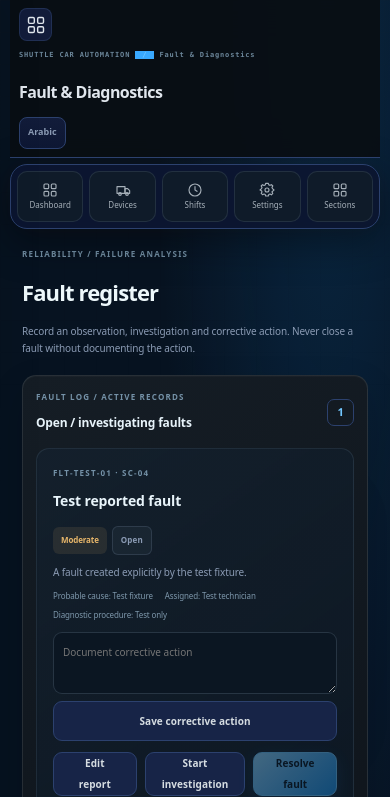
Test case: Shuttle Car Automation V8 › requires and records corrective action before resolving a fault
Earlier steps of the test are not shown.
Type "Replaced damaged sensor and verified detection in a controlled test." into the text box with placeholder "Document corrective action" at (195, 663), box [53,632,337,694]
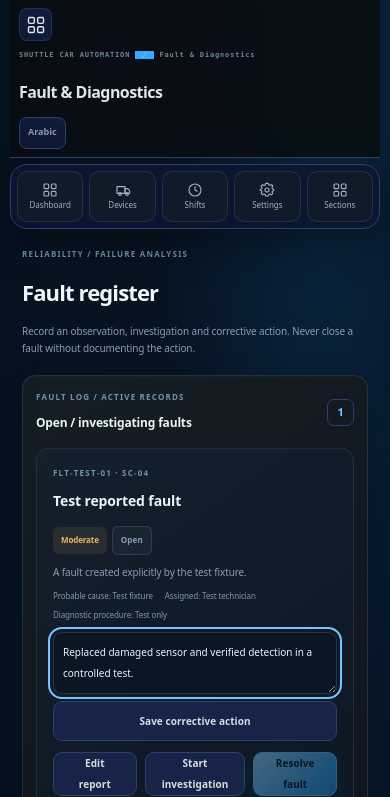
Click the button "Save corrective action" at (195, 721), box [53,701,337,741]
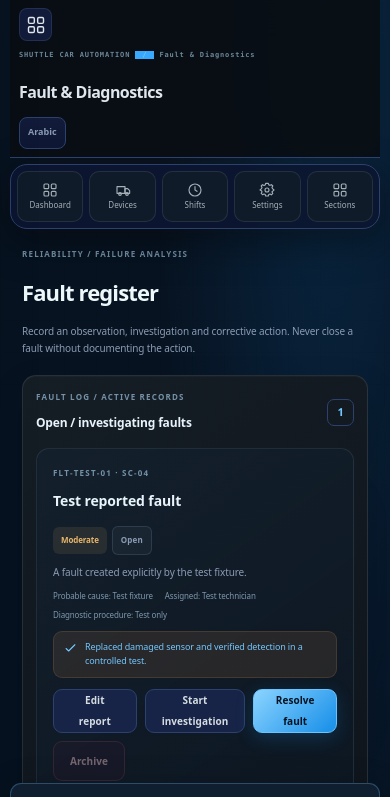
Result: the button "Resolve fault" is enabled
Result: the text "Replaced damaged sensor and verified detection in a controlled test." is shown at [53,631,337,678]
Click the button "Resolve fault" at (295, 711), box [253,689,337,733]
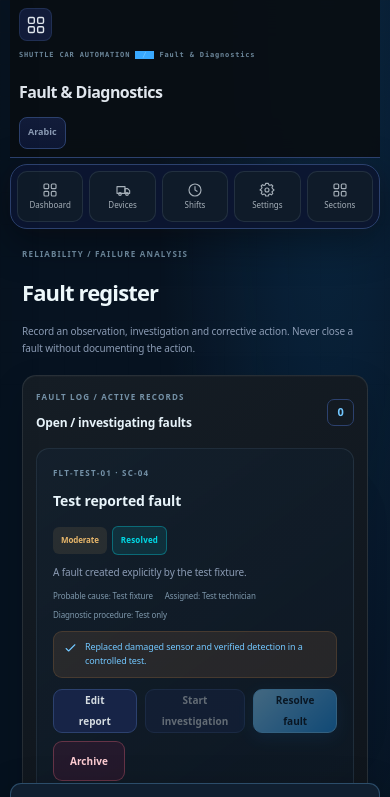
Result: the text "Resolved" is shown at [112,526,167,555]
